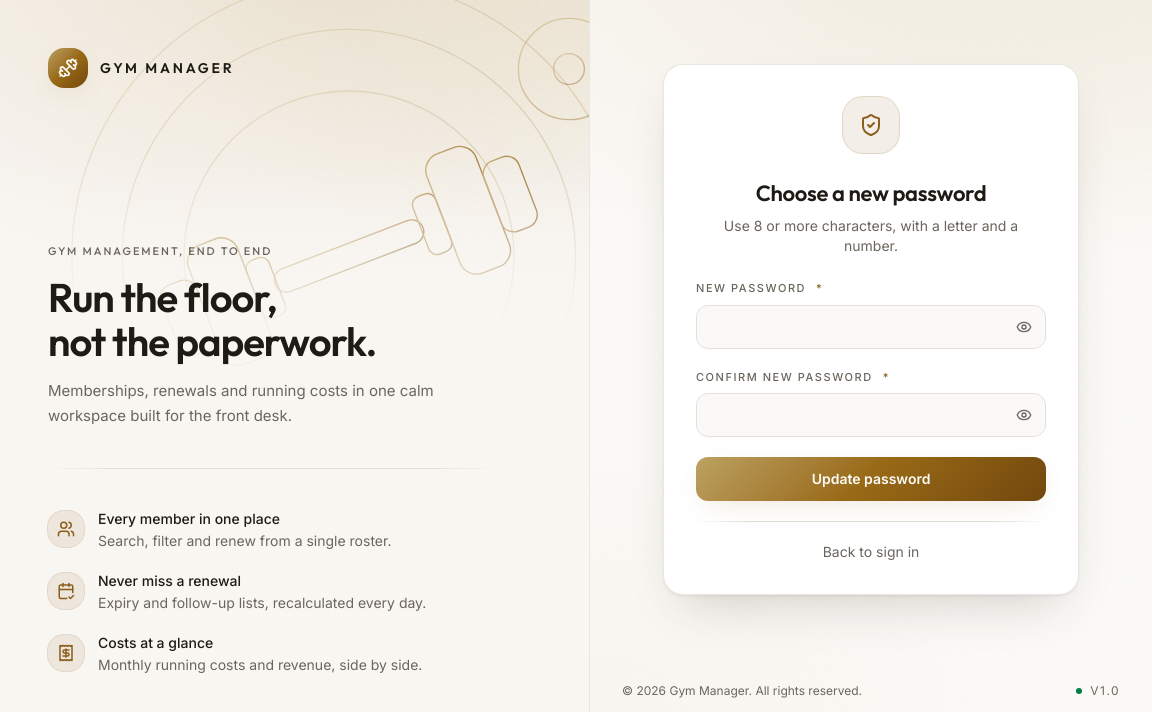
ResetPasswordPage › rejects a mismatched confirmation
The width and height of the screenshot is (1152, 712).
Type "BrandNew1" into the password field labelled "New password *" at [871, 326], box [696,304,1046,348]
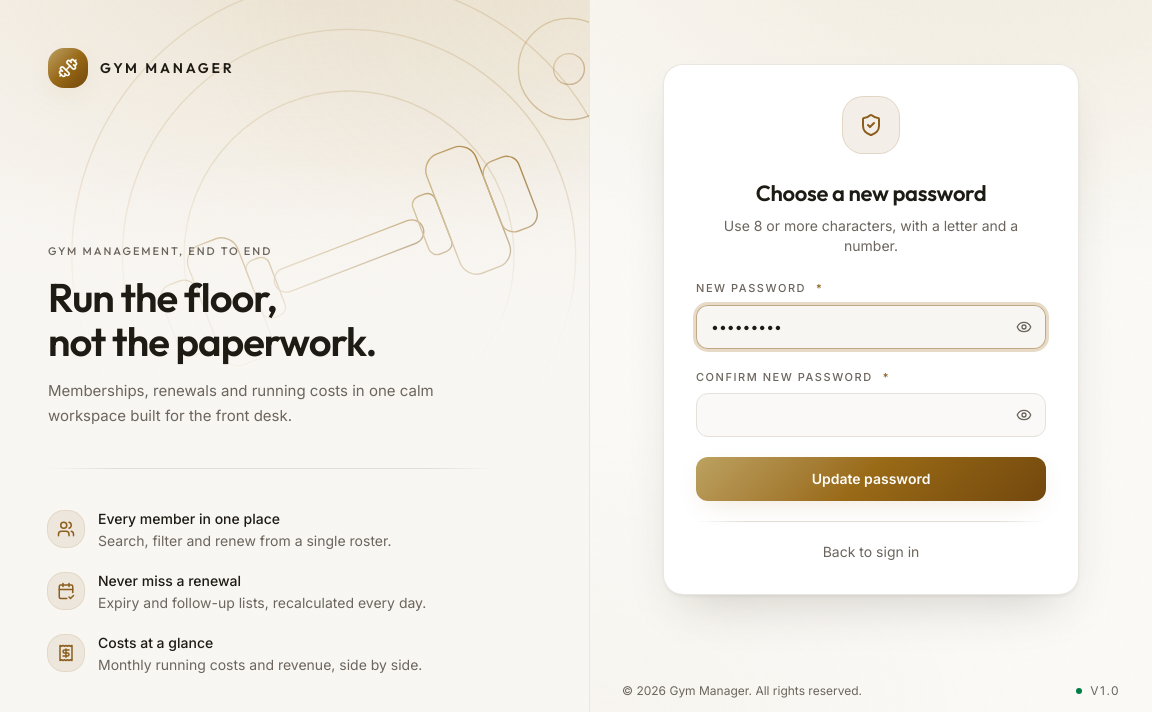
Type "Different1" into the password field labelled "Confirm new password *" at [871, 415], box [696,393,1046,437]
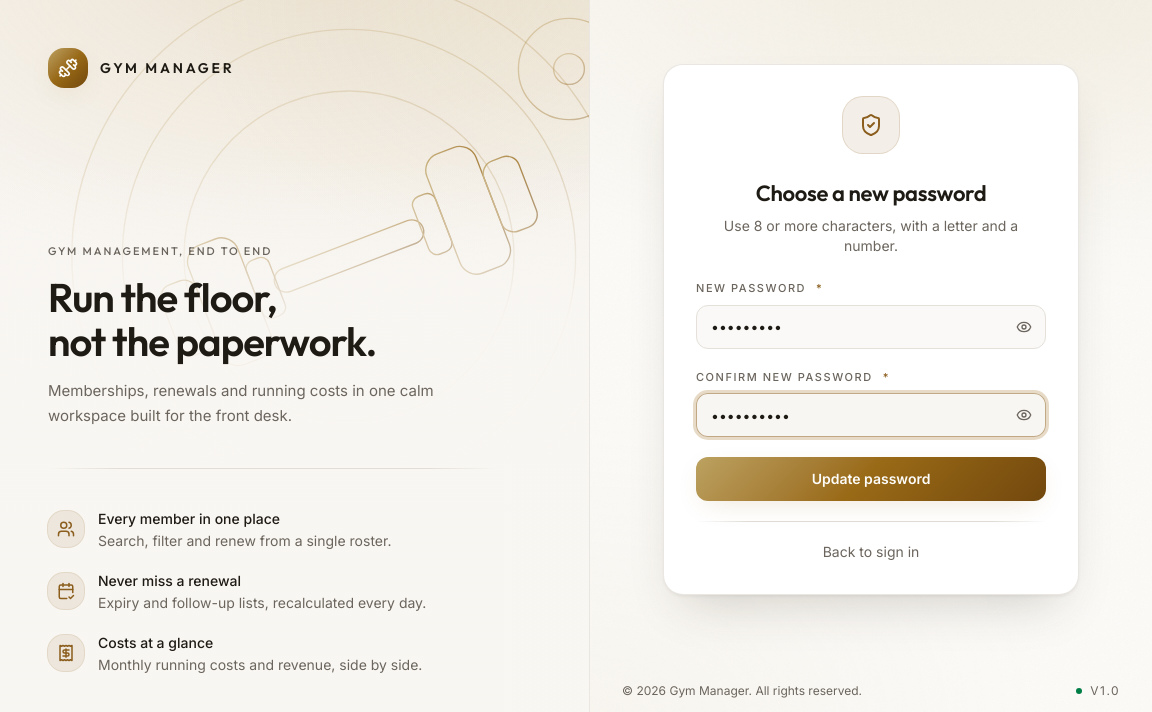
Click the button "Update password" at [871, 479], box [696,457,1046,501]
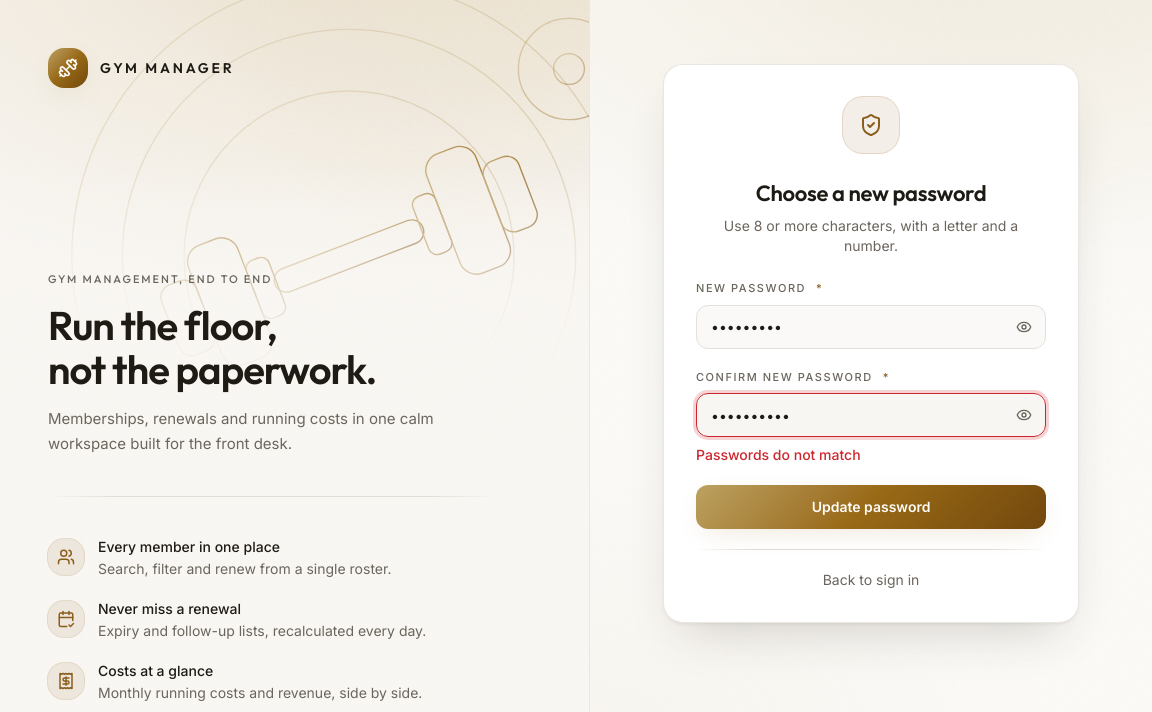
Expected: the text "Passwords do not match" is shown, [696,446,861,463]
